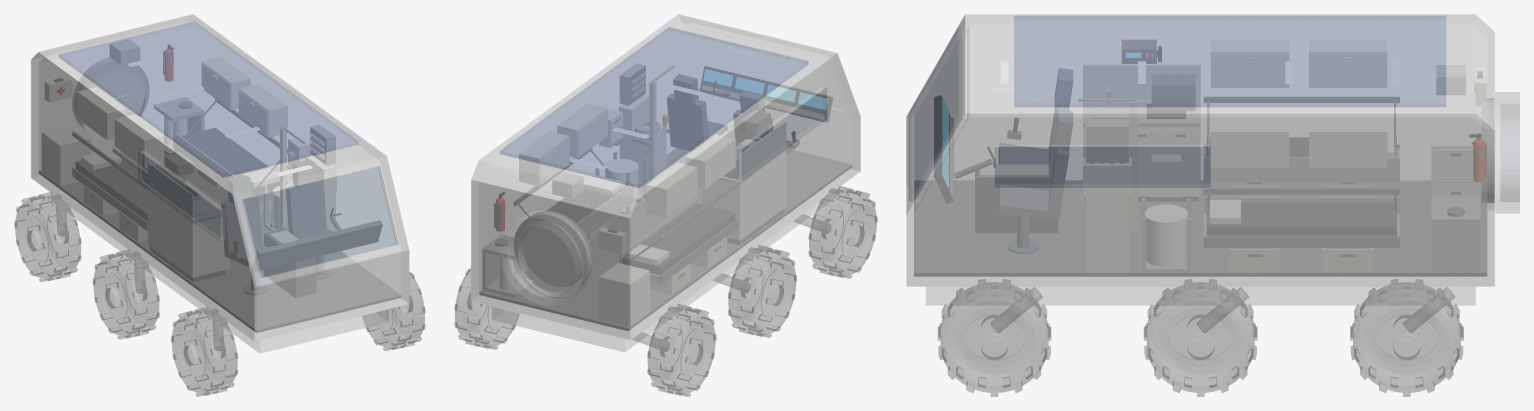
The model's file is rover03_pressurised_rover_combined.glb.
3 renders of one model, left to right at view 1: azimuth 30°, elevation 25°; view 2: azimuth 150°, elevation 25°; view 3: azimuth 270°, elevation 25°, orthographic. The views are drawn at different scales.
Parts seen in each view (by area): view 1: pressure_vessel, ext_cabin, ext_roof_solar, ext_windows, deck_floor, stowage_lockers, ext_wheel_6, ext_wheel_4, ext_wheel_5, eq37_1_cabinet, ext_chassis, seat_2 (+29 smaller); view 2: pressure_vessel, ext_cabin, ext_roof_solar, deck_floor, stowage_lockers, ext_rear_hatch, ext_wheel_5, ext_wheel_6, ext_wheel_4, ext_chassis, eq37_1_cabinet, hatch_door_1 (+33 smaller); view 3: ext_cabin, pressure_vessel, ext_roof_solar, deck_floor, stowage_lockers, ext_windows, ext_wheel_2, ext_wheel_3, ext_wheel_1, ext_chassis, eq43_1_mattress, eq43_1_hinge_and_strap_rails (+32 smaller).
Boxes of the visible parts, left/top/right/bottom form: pressure_vessel: left=31, top=14, right=408, bottom=340; ext_cabin: left=31, top=14, right=409, bottom=341; ext_roof_solar: left=59, top=21, right=358, bottom=177; ext_windows: left=138, top=151, right=398, bottom=277; deck_floor: left=38, top=151, right=401, bottom=332; stowage_lockers: left=77, top=57, right=287, bottom=167; ext_wheel_6: left=14, top=192, right=81, bottom=281; ext_wheel_4: left=171, top=307, right=237, bottom=396; ext_wheel_5: left=93, top=249, right=159, bottom=339; eq37_1_cabinet: left=148, top=191, right=229, bottom=277; ext_chassis: left=51, top=194, right=388, bottom=353; seat_2: left=221, top=175, right=267, bottom=294; pressure_vessel: left=471, top=15, right=859, bottom=339; ext_cabin: left=471, top=14, right=860, bottom=339; ext_roof_solar: left=500, top=27, right=808, bottom=187; deck_floor: left=479, top=148, right=852, bottom=330; stowage_lockers: left=519, top=103, right=735, bottom=216; ext_rear_hatch: left=500, top=211, right=591, bottom=305; ext_wheel_5: left=728, top=245, right=796, bottom=337; ext_wheel_6: left=647, top=304, right=716, bottom=396; ext_wheel_4: left=808, top=186, right=877, bottom=278; ext_chassis: left=492, top=188, right=839, bottom=351; eq37_1_cabinet: left=702, top=152, right=785, bottom=240; hatch_door_1: left=522, top=226, right=583, bottom=286; ext_cabin: left=906, top=14, right=1494, bottom=286; pressure_vessel: left=907, top=15, right=1494, bottom=285; ext_roof_solar: left=1014, top=16, right=1445, bottom=106; deck_floor: left=914, top=180, right=1487, bottom=276; stowage_lockers: left=1211, top=40, right=1386, bottom=167; ext_windows: left=909, top=27, right=1210, bottom=201; ext_wheel_2: left=1144, top=279, right=1257, bottom=396; ext_wheel_3: left=1350, top=279, right=1463, bottom=396; ext_wheel_1: left=938, top=279, right=1050, bottom=396; ext_chassis: left=926, top=286, right=1475, bottom=305; eq43_1_mattress: left=1207, top=203, right=1396, bottom=235; eq43_1_hinge_and_strap_rails: left=1204, top=188, right=1399, bottom=247.
Size of the model in its own units: 3.39 by 3.03 by 6.25.
